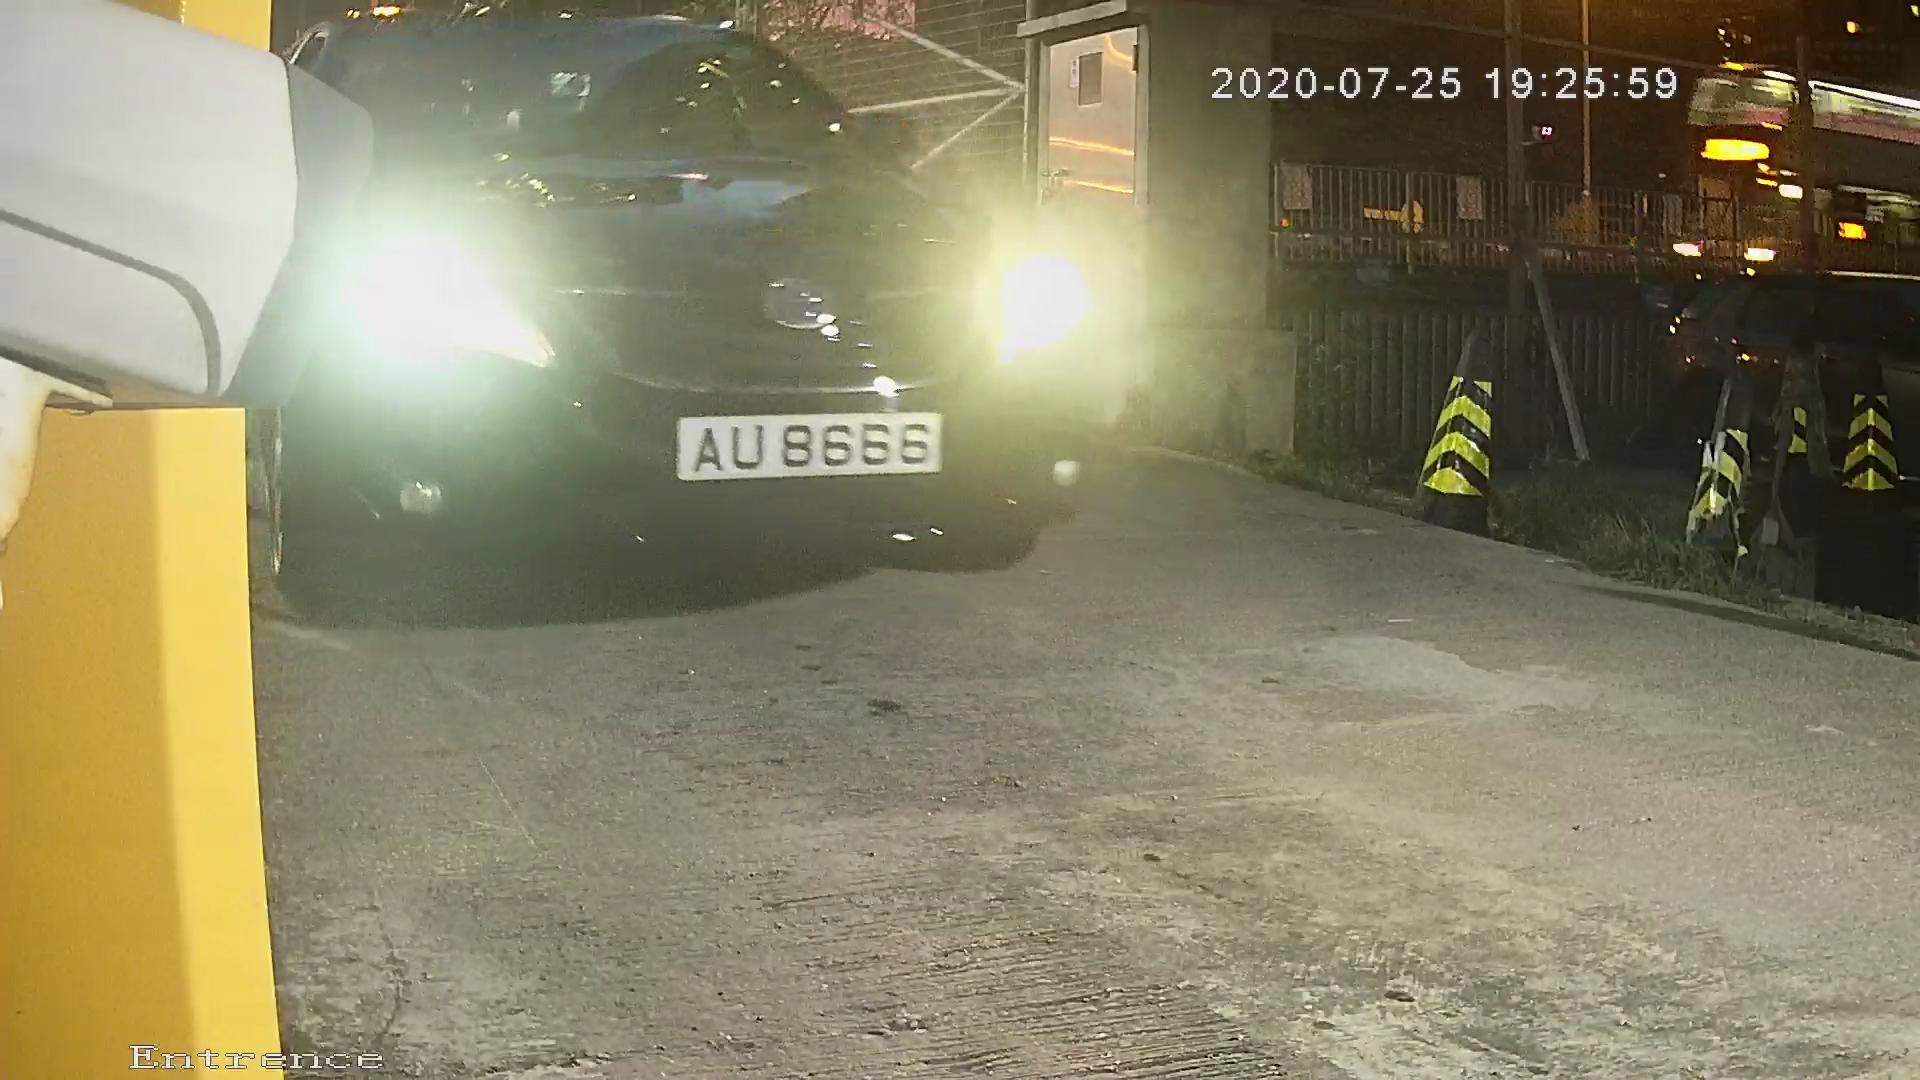privatecar: (212, 3, 1138, 647)
